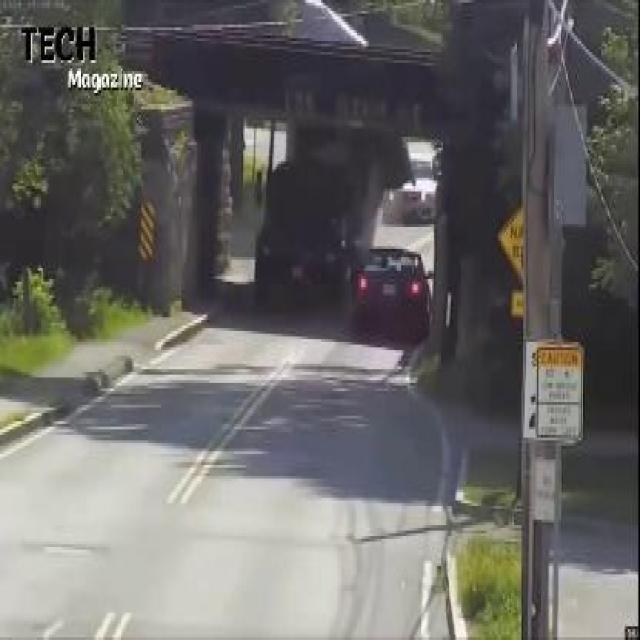accident: (255, 16, 411, 292)
